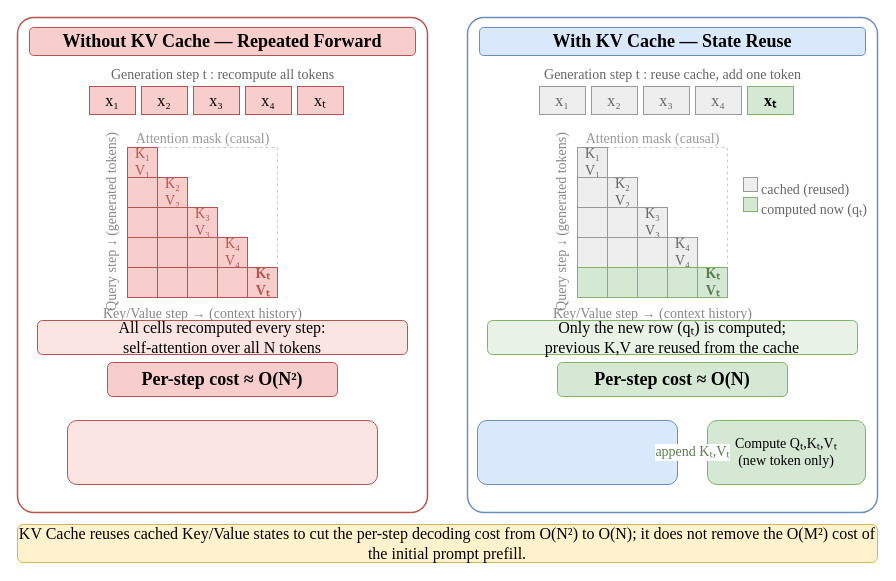
This 896x581 diagram has some shape labels left out. The shapes that lost their labels are listed below. From the top down, each one's centre as x and y in pixels, then its label:
At point 222,452: "No reuse: K,V for x₁…xₜ are recomputed at every step".
At point 577,452: "Past Key/Value Cache (VRAM) K₁,V₁ … Kₜ₋₁,Vₜ₋₁ (cached)".
